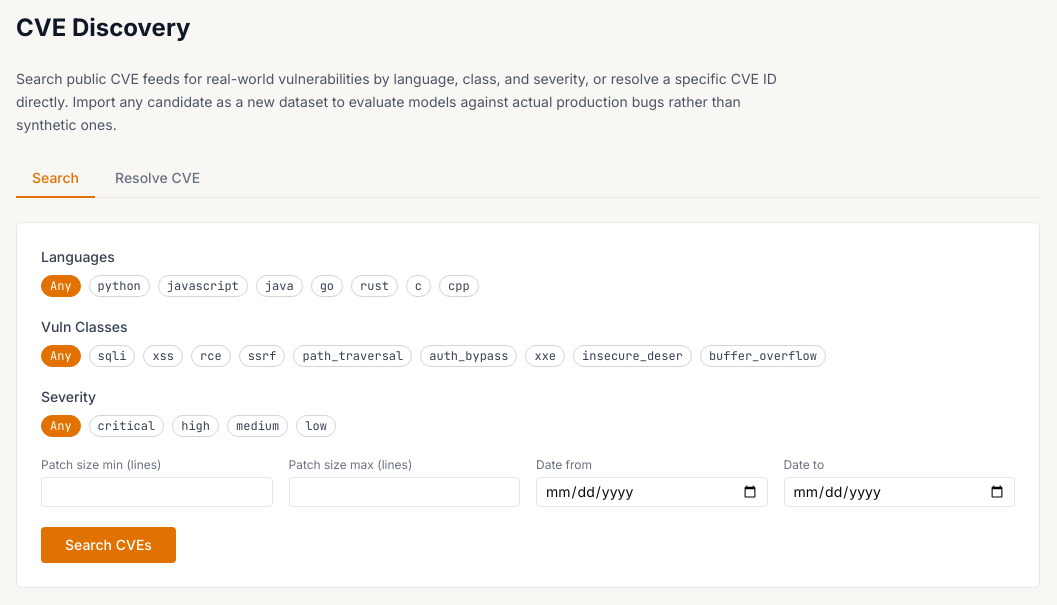
CVEDiscovery — tab navigation › switches to Resolve CVE tab when that tab is clicked
Step 1. Click the button "Resolve CVE" → (158,179), box [99,160,216,198]
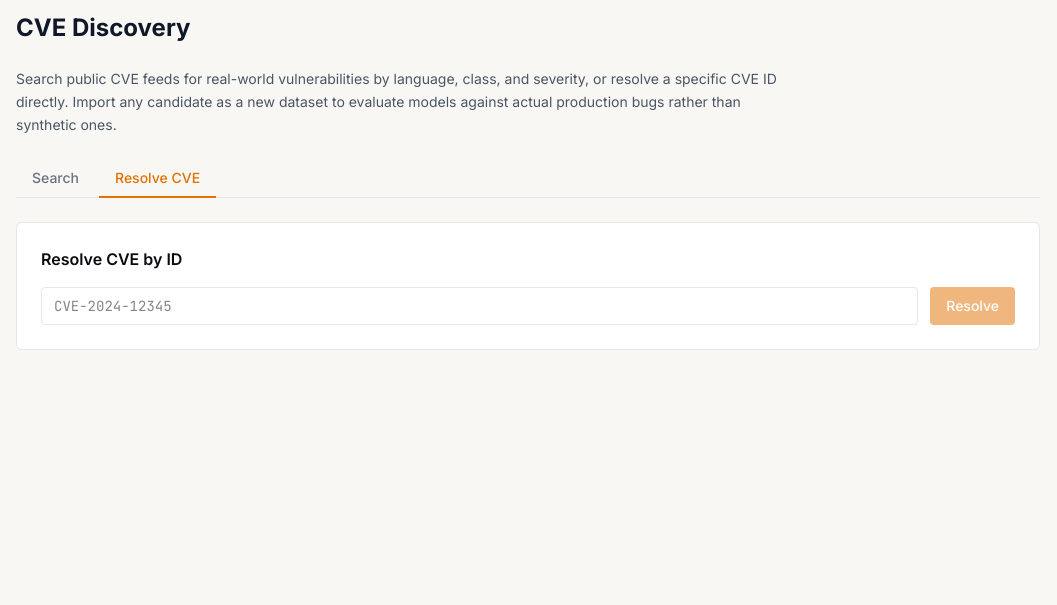
Expected: the heading "Resolve CVE by ID" is shown, [41,249,182,269]
Expected: the field with placeholder "CVE-2024-12345" is shown, [41,287,918,325]
